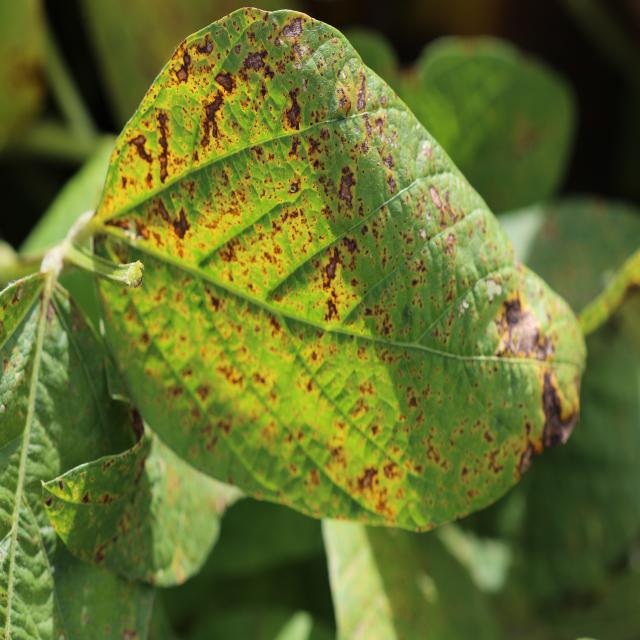Bacterial_Blight: (486, 276, 532, 366), (185, 83, 234, 164), (538, 369, 574, 463), (149, 188, 194, 249), (276, 76, 315, 141), (226, 37, 277, 82), (321, 230, 343, 321), (170, 44, 199, 96), (336, 162, 362, 214), (122, 135, 158, 171), (156, 109, 172, 180)
Soybean: (94, 8, 585, 530)
